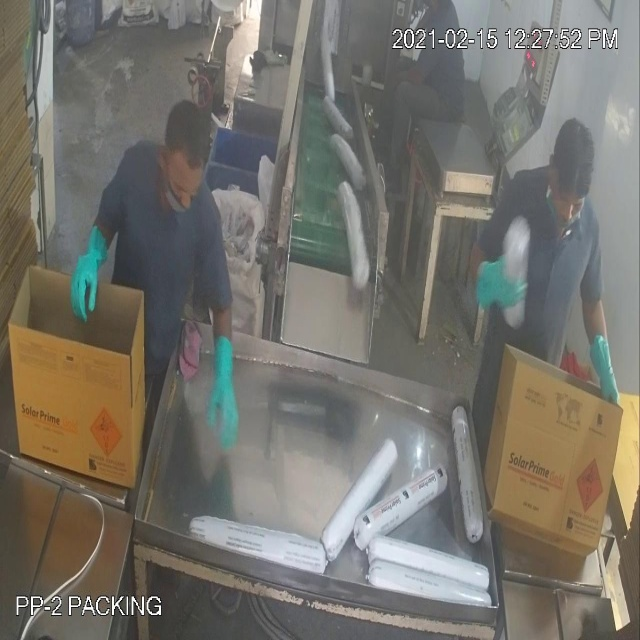Guantes: (196, 320, 252, 474), (58, 209, 111, 333), (473, 241, 528, 327), (587, 316, 630, 422)
